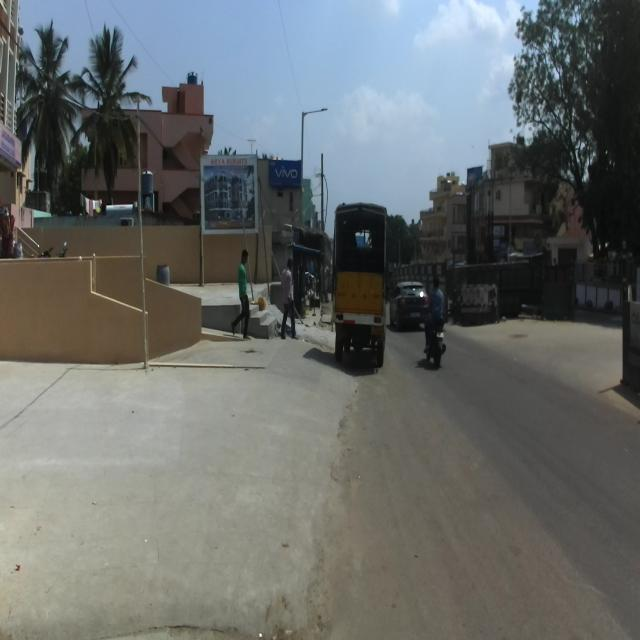person ahead at: (276, 252, 305, 351), (229, 246, 257, 344)
truck ahead at: (332, 198, 391, 369)
